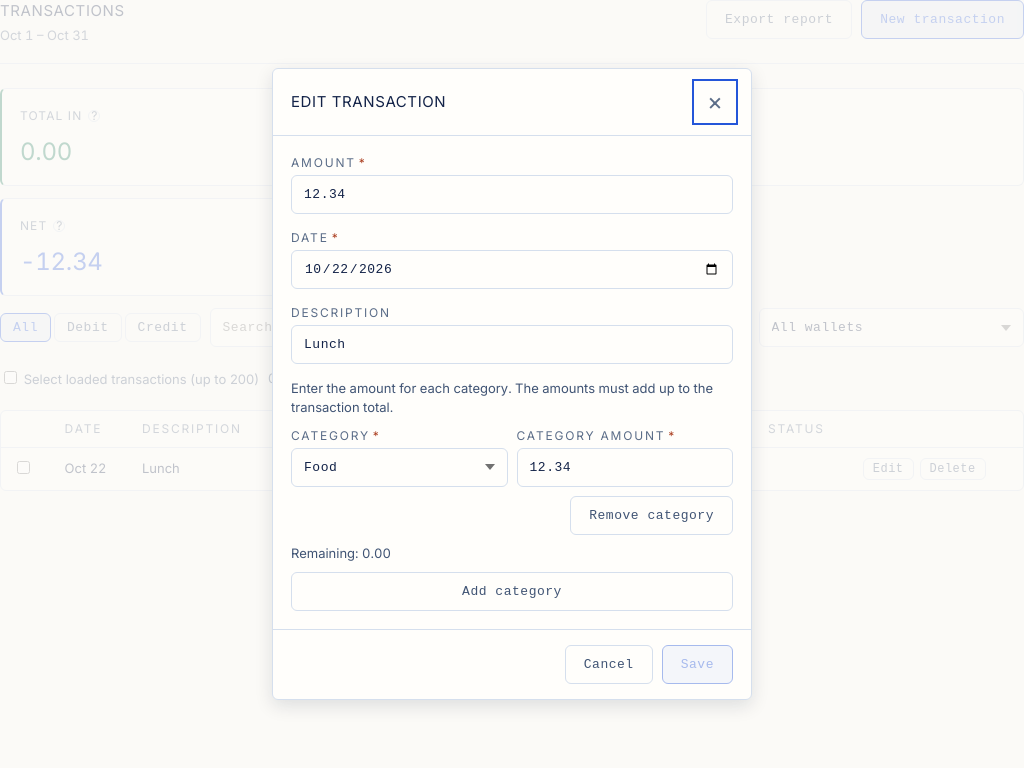
transaction cleanup › opens an exact transaction from a dashboard link and dismisses it
The width and height of the screenshot is (1024, 768).
Click the button "Cancel". click: {"x": 609, "y": 665}
box: [565, 645, 653, 684]
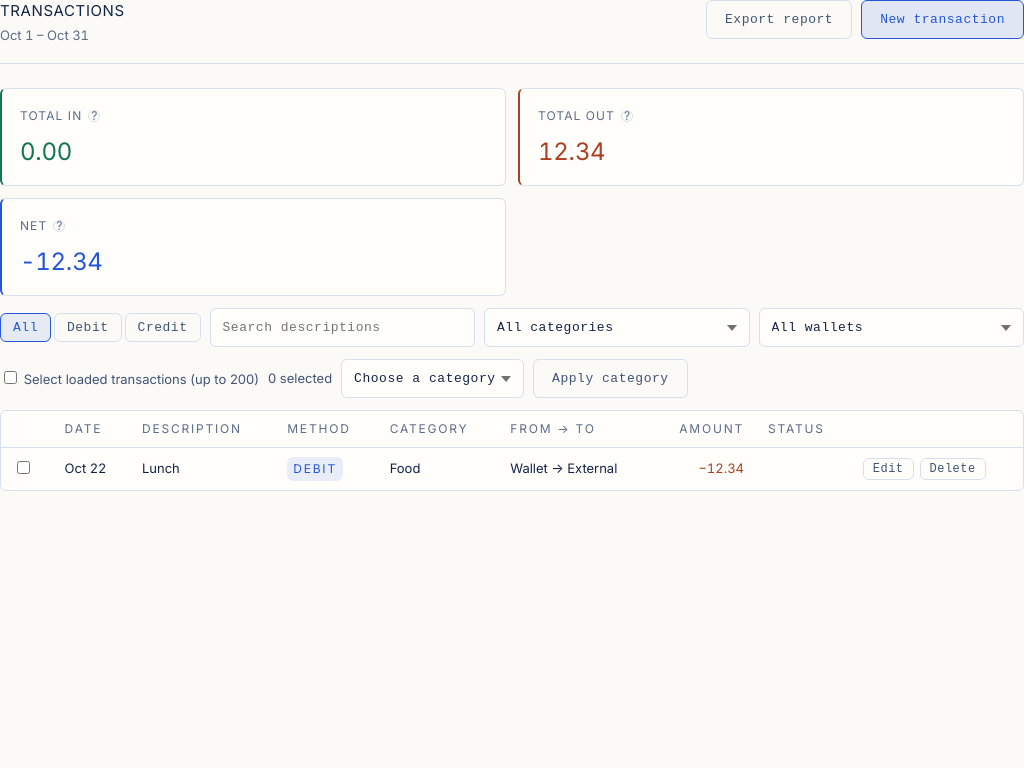
Now the dialog is gone
